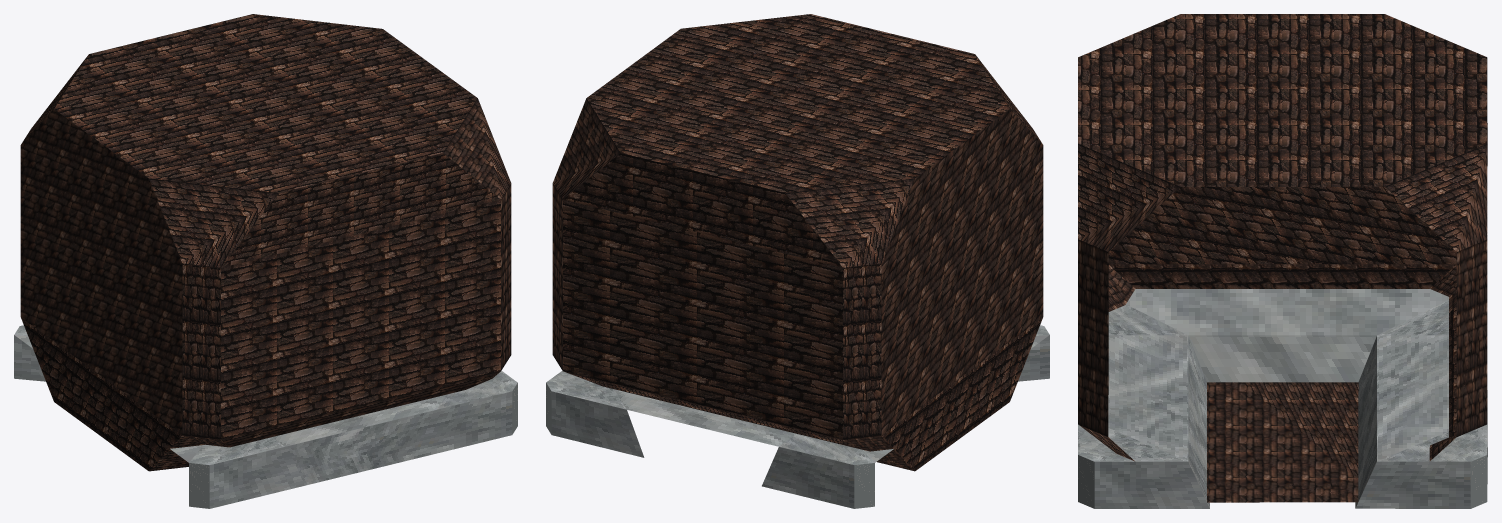
File: Pipe8.glb
3 renders of one model, left to right at view 1: azimuth 30°, elevation 25°; view 2: azimuth 150°, elevation 25°; view 3: azimuth 270°, elevation 25°, orthographic. The views are drawn at different scales.
Parts seen in each view (by area): view 1: Plane.004; view 2: Plane.004; view 3: Plane.004.
Boxes of the visible parts, bbox=[...] form: Plane.004: bbox=[14, 14, 517, 508]; Plane.004: bbox=[546, 14, 1049, 508]; Plane.004: bbox=[1078, 14, 1487, 508].
Size of the model in its own units: 4 by 3.47 by 4.01.
2 materials, 2 textured.
